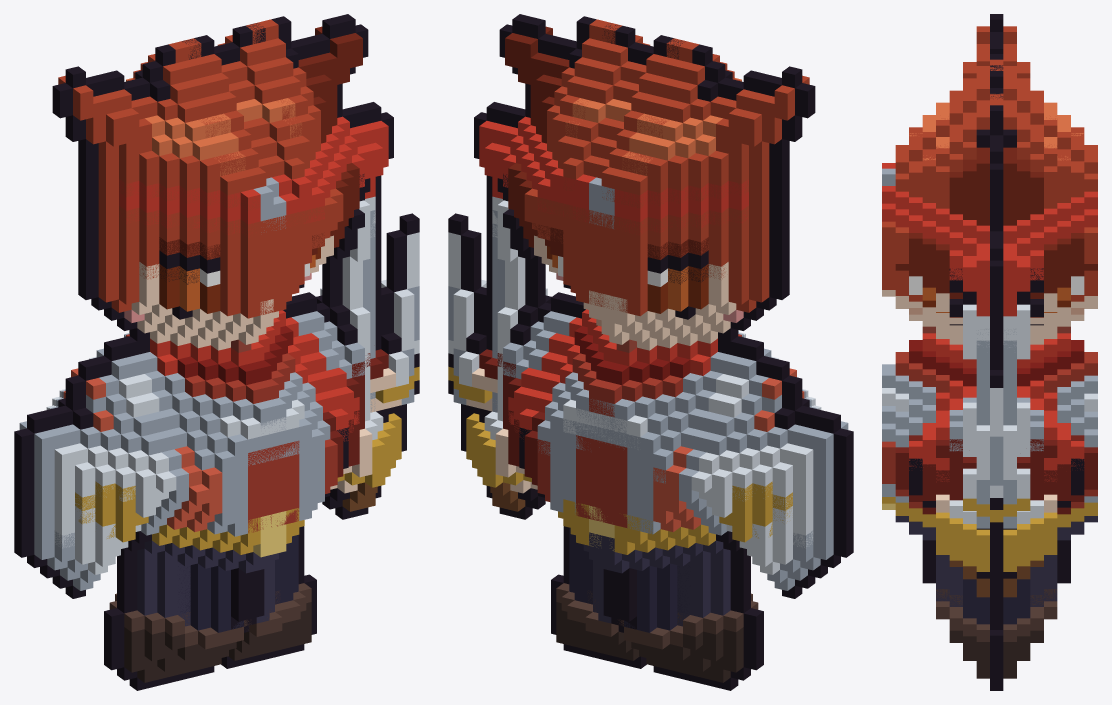
File: warrior.glb
3 views of the same model, side by side, from view 1: azimuth 30°, elevation 25°; view 2: azimuth 150°, elevation 25°; view 3: azimuth 270°, elevation 25° (orthographic). The views are drawn at different scales.
Visible parts, largest first — view 1: f0, f1, f2, f6, f4; view 2: f0, f1, f2, f6, f4; view 3: f0, f1, f2, f6, f4.
Part boxes in pixels (x1,y1,x2,y2): f0: [14, 14, 406, 690]; f1: [14, 20, 406, 632]; f2: [52, 148, 406, 679]; f6: [249, 213, 419, 517]; f4: [65, 225, 375, 687]; f0: [461, 14, 853, 690]; f1: [461, 19, 853, 631]; f2: [461, 149, 815, 679]; f6: [448, 213, 627, 551]; f4: [492, 225, 802, 687]; f0: [882, 14, 1097, 619]; f1: [882, 60, 1097, 609]; f2: [882, 227, 1097, 690]; f6: [909, 370, 1084, 540]; f4: [922, 409, 1070, 606].
Size of the model in its own units: 1.94 by 2.94 by 1.
